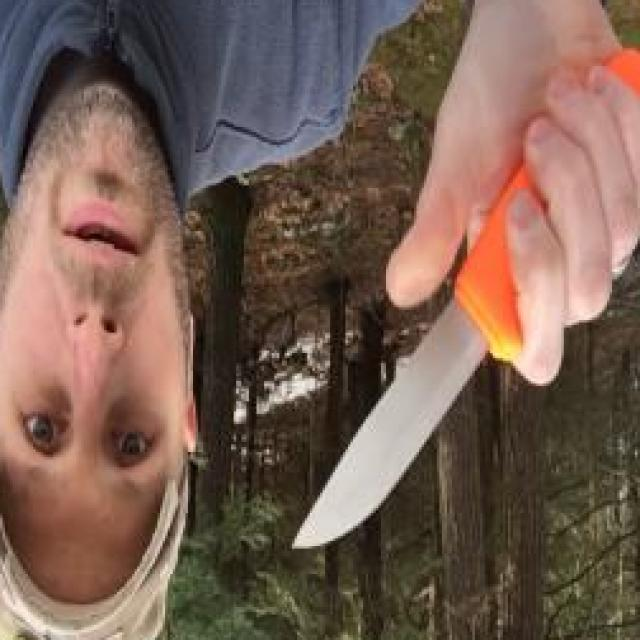knife: (283, 158, 572, 562)
